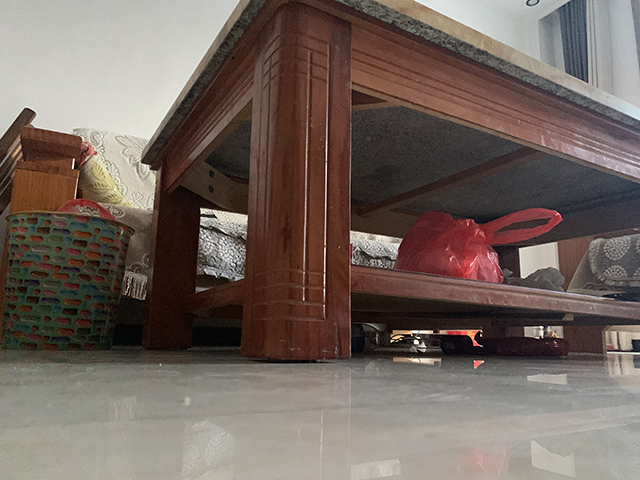sofa: (1, 127, 153, 346)
table: (139, 1, 640, 364)
trashcan: (2, 212, 135, 354)
